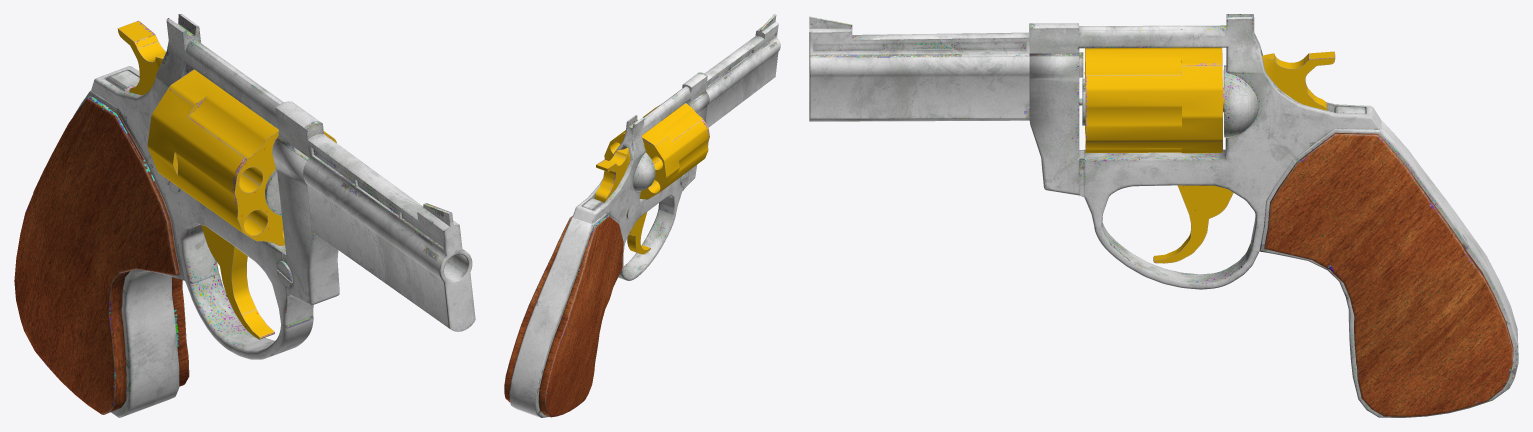
Rendered from gold_gun.obj.
3 views of the same model, side by side, from view 1: azimuth 30°, elevation 25°; view 2: azimuth 150°, elevation 25°; view 3: azimuth 270°, elevation 25° (orthographic). The views are drawn at different scales.
Visible parts, largest first — view 1: defaultMaterial.001; view 2: defaultMaterial.001; view 3: defaultMaterial.001.
Boxes of the visible parts, left/top/right/bottom form: defaultMaterial.001: left=14, top=14, right=475, bottom=417; defaultMaterial.001: left=504, top=14, right=780, bottom=417; defaultMaterial.001: left=809, top=14, right=1518, bottom=417.
Size of the model in its own units: 30.76 by 104 by 176.
Materials: 3 (3 with a texture image).
